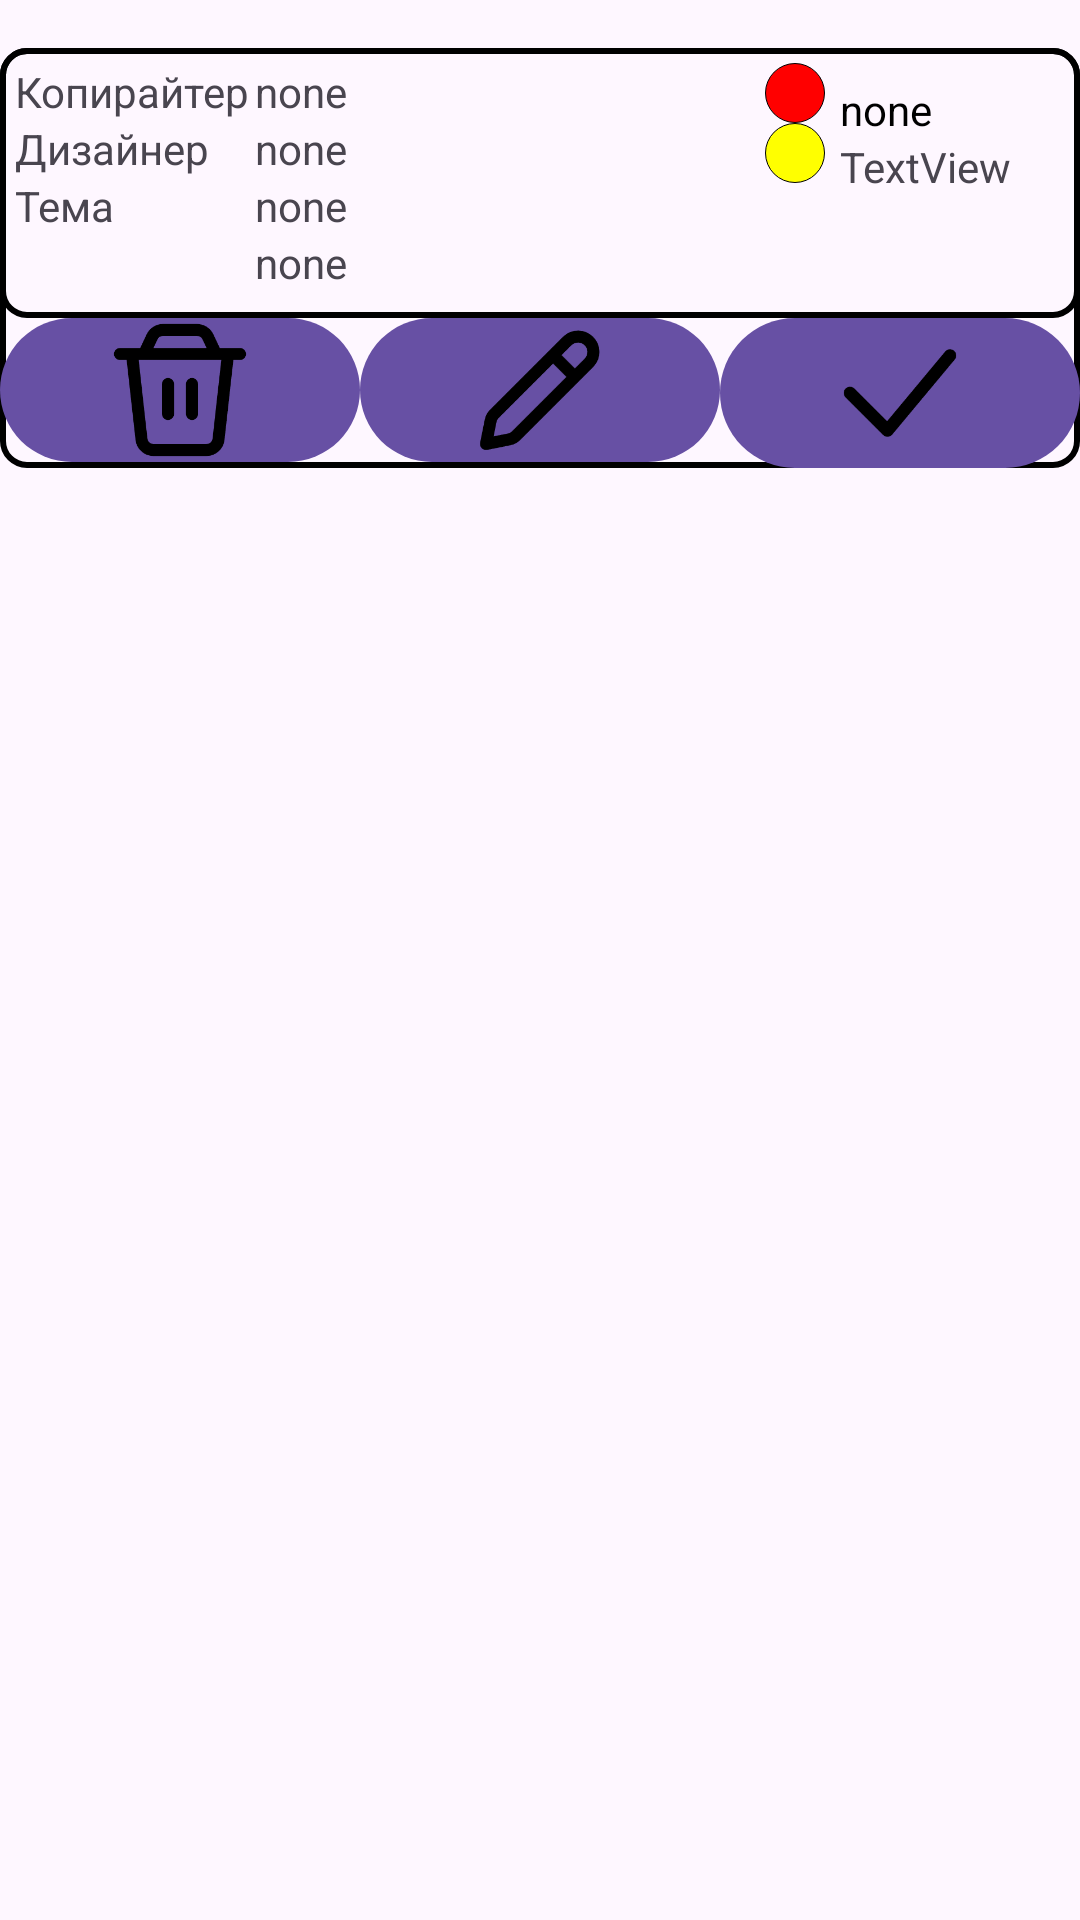

Screen size 1080 × 1920. Icon name, then its center in pixels as point (x, y):
bin: point (180, 390)
check: point (900, 393)
edit: point (540, 390)
